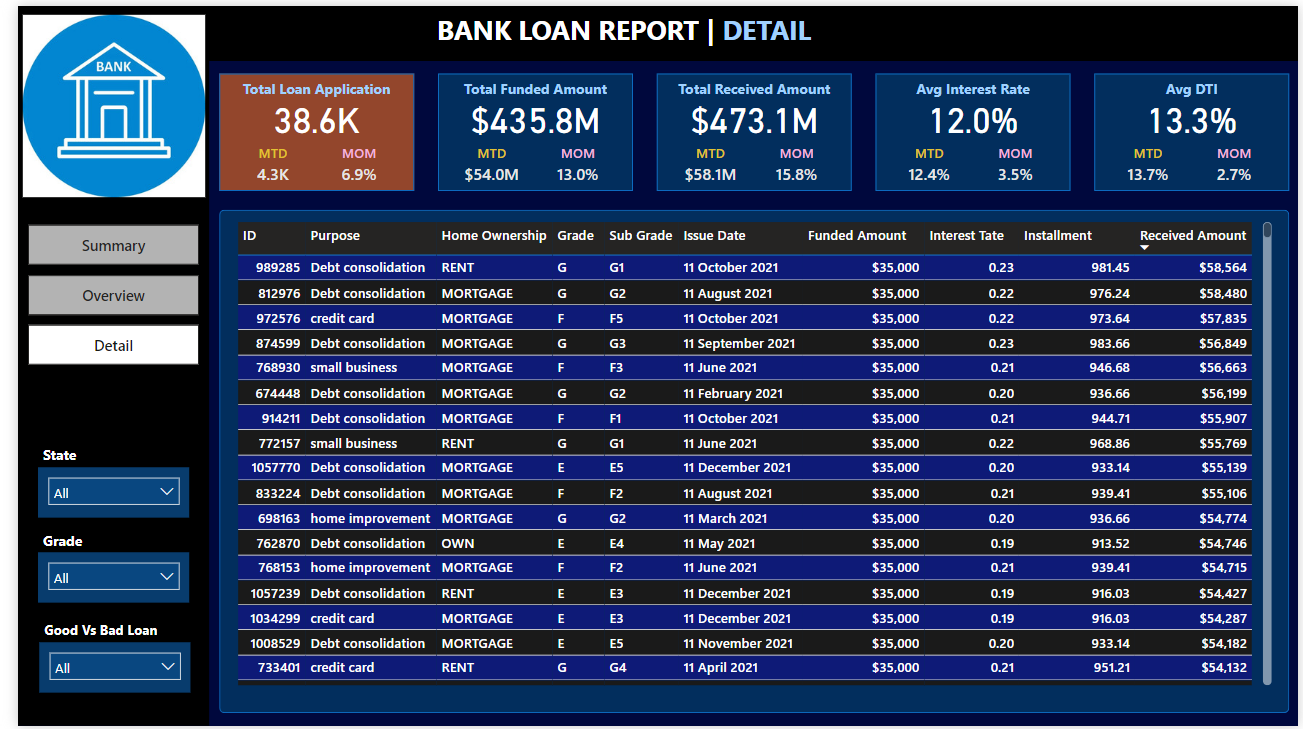

This screenshot's page, from the dashboard's own definition file:
{"tool":"powerbi","page":{"name":"Detail","canvas":[1280,720],"ordinal":3},"visuals":[{"type":"shape","box":[0,55,191.2,665],"z":0},{"type":"shape","box":[201.2,67.5,195,117.5],"z":0,"group":"g1"},{"type":"shape","box":[420.1,67.5,195,117.5],"z":0,"group":"g2"},{"type":"shape","box":[638.9,67.5,195,117.5],"z":0,"group":"g3"},{"type":"shape","box":[857.8,67.5,195,117.5],"z":0,"group":"g5"},{"type":"shape","box":[1076.6,67.5,195,117.5],"z":0,"group":"g4"},{"type":"card","fields":{"Values":["Dax Measures.Total Loan Applications"]},"box":[201.2,86.3,195,51.2],"z":1000,"group":"g1"},{"type":"card","fields":{"Values":["Dax Measures.Total Funded Amount"]},"box":[420.1,86.3,195,51.2],"z":1000,"group":"g2"},{"type":"card","fields":{"Values":["Dax Measures.Total Received Amount"]},"box":[638.9,86.3,195,51.2],"z":1000,"group":"g3"},{"type":"card","fields":{"Values":["Dax Measures.Average Interest Rate"]},"box":[857.8,86.3,195,51.2],"z":1000,"group":"g5"},{"type":"card","fields":{"Values":["Dax Measures.Average DTI"]},"box":[1076.6,86.3,195,51.2],"z":1000,"group":"g4"},{"type":"shape","box":[201.7,203.3,1070,503.3],"z":1000},{"type":"shape","box":[0,0,1280,55],"z":2000},{"type":"textbox","box":[201.2,67.5,195,36.2],"z":2000,"group":"g1"},{"type":"textbox","box":[420.1,67.5,195,36.2],"z":2000,"group":"g2"},{"type":"textbox","box":[638.9,67.5,195,36.2],"z":2000,"group":"g3"},{"type":"textbox","box":[857.8,67.5,195,36.2],"z":2000,"group":"g5"},{"type":"textbox","box":[1076.6,67.5,195,36.2],"z":2000,"group":"g4"},{"type":"card","title":"MTD","fields":{"Values":["Dax Measures.MTD Total Loan Applications"]},"box":[212.4,137.5,85,47.5],"z":3000,"group":"g1"},{"type":"card","title":"MTD","fields":{"Values":["Dax Measures.MTD Funded Amount"]},"box":[431.3,137.5,85,47.5],"z":3000,"group":"g2"},{"type":"card","title":"MTD","fields":{"Values":["Dax Measures.MTD Received Amount"]},"box":[650.1,137.5,85,47.5],"z":3000,"group":"g3"},{"type":"card","title":"MTD","fields":{"Values":["Dax Measures.MTD Average Rate"]},"box":[869,137.5,85,47.5],"z":3000,"group":"g5"},{"type":"card","title":"MTD","fields":{"Values":["Dax Measures.MTD DTI"]},"box":[1087.8,137.5,85,47.5],"z":3000,"group":"g4"},{"type":"textbox","box":[20,434,90,42.9],"z":3000},{"type":"textbox","box":[413.8,0,452.5,53.8],"z":4000},{"type":"card","title":"MOM","fields":{"Values":["Dax Measures.MOM Loan Applications Percentage"]},"box":[298.7,137.5,85,47.5],"z":4000,"group":"g1"},{"type":"card","title":"MOM","fields":{"Values":["Dax Measures.MOM Funded Amount %"]},"box":[517.6,137.5,85,47.5],"z":4000,"group":"g2"},{"type":"card","title":"MOM","fields":{"Values":["Dax Measures.MOM Received Amount %"]},"box":[736.4,137.5,85,47.5],"z":4000,"group":"g3"},{"type":"card","title":"MOM","fields":{"Values":["Dax Measures.MOM Average Interest Rate %"]},"box":[955.3,137.5,85,47.5],"z":4000,"group":"g5"},{"type":"card","title":"MOM","fields":{"Values":["Dax Measures.MOM DTI %"]},"box":[1174.1,137.5,85,47.5],"z":4000,"group":"g4"},{"type":"group","id":"g1","title":"Group 1","box":[201.2,67.5,195,117.5],"z":5000},{"type":"group","id":"g2","title":"Group 1","box":[420.1,67.5,195,117.5],"z":6000},{"type":"group","id":"g3","title":"Group 1","box":[638.9,67.5,195,117.5],"z":7000},{"type":"group","id":"g4","title":"Group 1","box":[1076.6,67.5,195,117.5],"z":8000},{"type":"group","id":"g5","title":"Group 1","box":[857.8,67.5,195,117.5],"z":9000},{"type":"slicer","fields":{"Values":["Bank_loan_data.address_state"]},"box":[20,461.4,151.4,50],"z":10000},{"type":"slicer","fields":{"Values":["Bank_loan_data.grade"]},"box":[20,545.7,151.4,50],"z":11000},{"type":"textbox","box":[20,520.2,57.1,48.6],"z":12000},{"type":"slicer","fields":{"Values":["Bank_loan_data.Good Vs Bad Loan"]},"box":[21.4,635.7,151.4,50],"z":13000},{"type":"textbox","box":[21.4,610,151.4,35.7],"z":14000},{"type":"tableEx","fields":{"Values":["Bank_loan_data.id","Bank_loan_data.purpose","Bank_loan_data.home_ownership","Bank_loan_data.grade","Bank_loan_data.sub_grade","Bank_loan_data.issue_date","Dax Measures.Total Funded Amount","Sum(Bank_loan_data.int_rate)","Sum(Bank_loan_data.installment)","Dax Measures.Total Received Amount"]},"box":[213.3,211.7,1045,473.3],"z":15000},{"type":"image","box":[0,0,192,200],"z":16000},{"type":"pageNavigator","box":[10,218.6,171.4,141.4],"z":17000}]}

Visuals, with their boxes in screenshot pixels (x1, y1, x2, y2), scaled from the page's 1280x720 canvas onto the 1303x729 screenshot:
shape: (left=0, top=56, right=195, bottom=728)
shape: (left=205, top=68, right=403, bottom=187)
shape: (left=428, top=68, right=626, bottom=187)
shape: (left=650, top=68, right=849, bottom=187)
shape: (left=873, top=68, right=1072, bottom=187)
shape: (left=1096, top=68, right=1294, bottom=187)
card - Dax Measures.Total Loan Applications: (left=205, top=87, right=403, bottom=139)
card - Dax Measures.Total Funded Amount: (left=428, top=87, right=626, bottom=139)
card - Dax Measures.Total Received Amount: (left=650, top=87, right=849, bottom=139)
card - Dax Measures.Average Interest Rate: (left=873, top=87, right=1072, bottom=139)
card - Dax Measures.Average DTI: (left=1096, top=87, right=1294, bottom=139)
shape: (left=205, top=206, right=1295, bottom=715)
shape: (left=0, top=0, right=1302, bottom=56)
textbox: (left=205, top=68, right=403, bottom=105)
textbox: (left=428, top=68, right=626, bottom=105)
textbox: (left=650, top=68, right=849, bottom=105)
textbox: (left=873, top=68, right=1072, bottom=105)
textbox: (left=1096, top=68, right=1294, bottom=105)
"MTD" card: (left=216, top=139, right=303, bottom=187)
"MTD" card: (left=439, top=139, right=526, bottom=187)
"MTD" card: (left=662, top=139, right=748, bottom=187)
"MTD" card: (left=885, top=139, right=971, bottom=187)
"MTD" card: (left=1107, top=139, right=1194, bottom=187)
textbox: (left=20, top=439, right=112, bottom=483)
textbox: (left=421, top=0, right=882, bottom=54)
"MOM" card: (left=304, top=139, right=391, bottom=187)
"MOM" card: (left=527, top=139, right=613, bottom=187)
"MOM" card: (left=750, top=139, right=836, bottom=187)
"MOM" card: (left=972, top=139, right=1059, bottom=187)
"MOM" card: (left=1195, top=139, right=1282, bottom=187)
"Group 1" group: (left=205, top=68, right=403, bottom=187)
"Group 1" group: (left=428, top=68, right=626, bottom=187)
"Group 1" group: (left=650, top=68, right=849, bottom=187)
"Group 1" group: (left=1096, top=68, right=1294, bottom=187)
"Group 1" group: (left=873, top=68, right=1072, bottom=187)
slicer - Bank_loan_data.address_state: (left=20, top=467, right=174, bottom=518)
slicer - Bank_loan_data.grade: (left=20, top=553, right=174, bottom=603)
textbox: (left=20, top=527, right=78, bottom=576)
slicer - Bank_loan_data.Good Vs Bad Loan: (left=22, top=644, right=176, bottom=694)
textbox: (left=22, top=618, right=176, bottom=654)
tableEx - Bank_loan_data.id x Bank_loan_data.purpose: (left=217, top=214, right=1281, bottom=694)
image: (left=0, top=0, right=195, bottom=202)
pageNavigator: (left=10, top=221, right=185, bottom=364)
